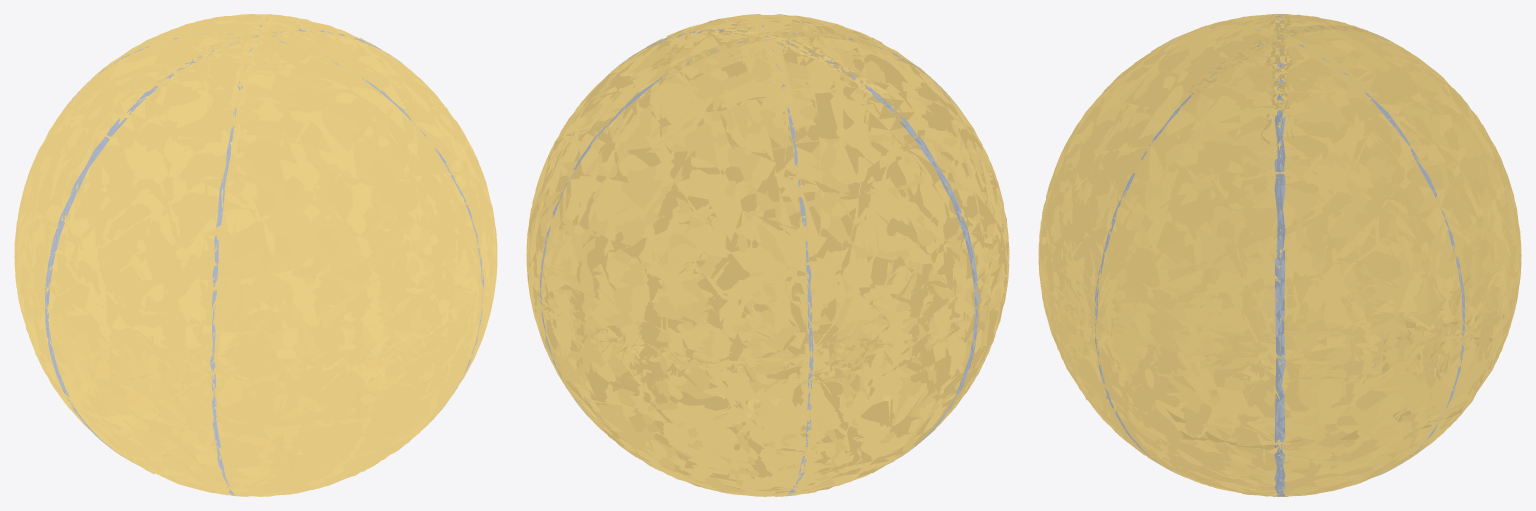
The picture shows the model from 3 angles, left to right: view 1: azimuth 30°, elevation 25°; view 2: azimuth 150°, elevation 25°; view 3: azimuth 270°, elevation 25°; orthographic projection.
Visible parts, largest first — view 1: anodes, structure; view 2: anodes, structure; view 3: anodes, structure.
Part boxes in pixels (x1=…): anodes: x1=14, y1=14, x2=497, y2=496; structure: x1=45, y1=15, x2=483, y2=495; anodes: x1=526, y1=14, x2=1009, y2=496; structure: x1=540, y1=14, x2=978, y2=495; anodes: x1=1038, y1=14, x2=1521, y2=496; structure: x1=1095, y1=14, x2=1464, y2=496.
Size of the model in its own units: 2 by 2 by 2.
